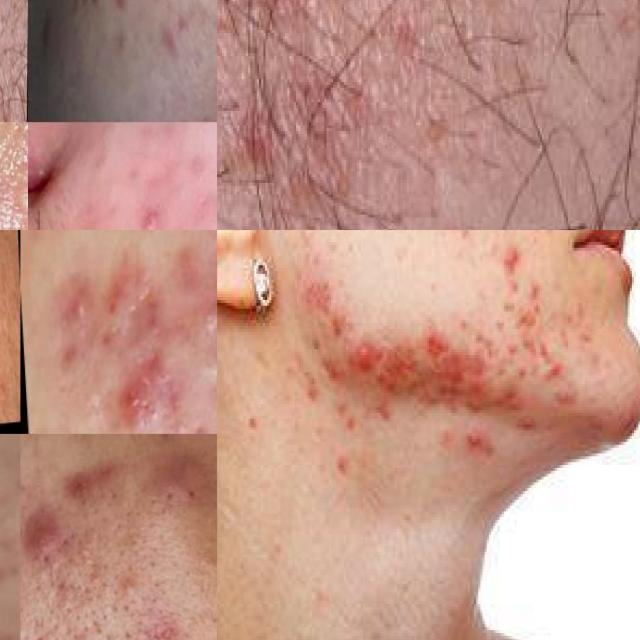acne_scars: (380, 320, 478, 419), (129, 604, 197, 640)
papule: (50, 453, 127, 525), (512, 297, 576, 375), (142, 434, 212, 500), (104, 364, 166, 424), (20, 494, 72, 565), (331, 326, 382, 393), (493, 236, 536, 288), (52, 284, 91, 336), (107, 563, 138, 609)
pustule: (133, 201, 166, 230)
